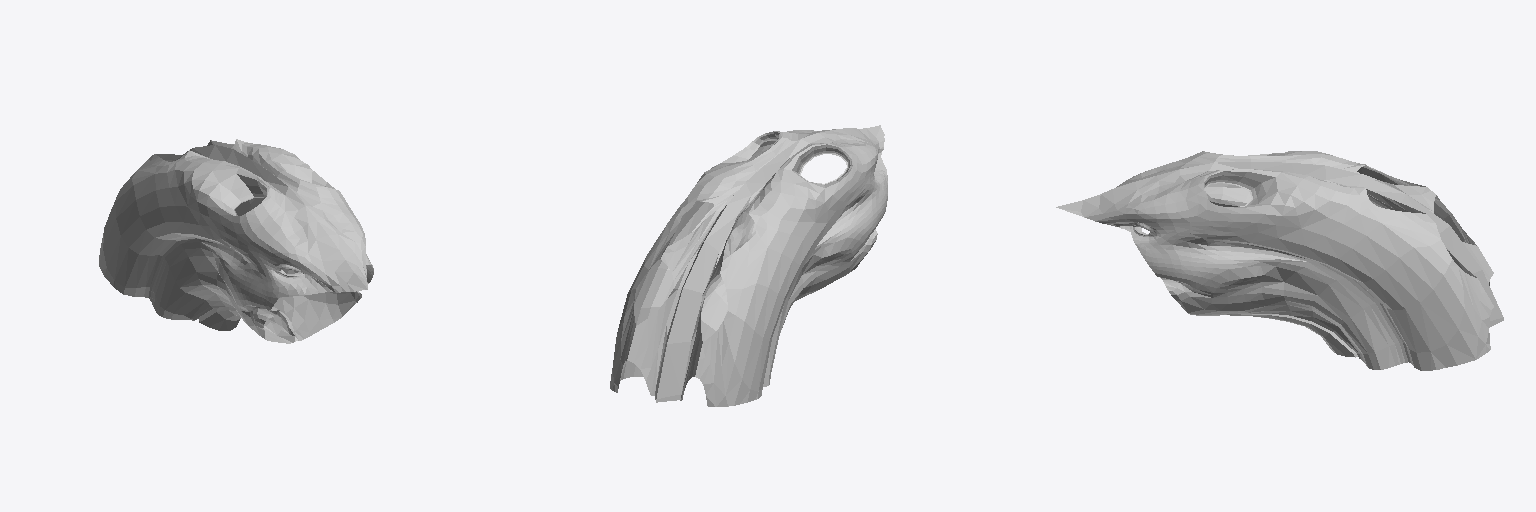
File: head_without_mouth.obj
3 renders of one model, left to right at view 1: azimuth 30°, elevation 25°; view 2: azimuth 150°, elevation 25°; view 3: azimuth 270°, elevation 25°, orthographic.
Parts seen in each view (by area): view 1: Cube.001_Cube.006; view 2: Cube.001_Cube.006; view 3: Cube.001_Cube.006.
Part boxes in pixels (x1,y1,x2,y2): Cube.001_Cube.006: (99, 139, 373, 343); Cube.001_Cube.006: (610, 125, 887, 406); Cube.001_Cube.006: (1056, 151, 1503, 370).
Bounding box in the file's own units: 0.5624 × 0.7655 × 1.65.